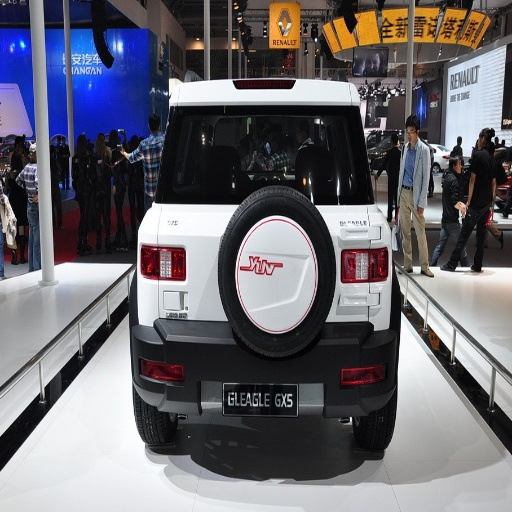back_bumper: (290, 281, 393, 420), (132, 320, 234, 455)
tailgate: (221, 220, 324, 351)
trunk: (141, 205, 317, 441), (318, 207, 374, 310)
